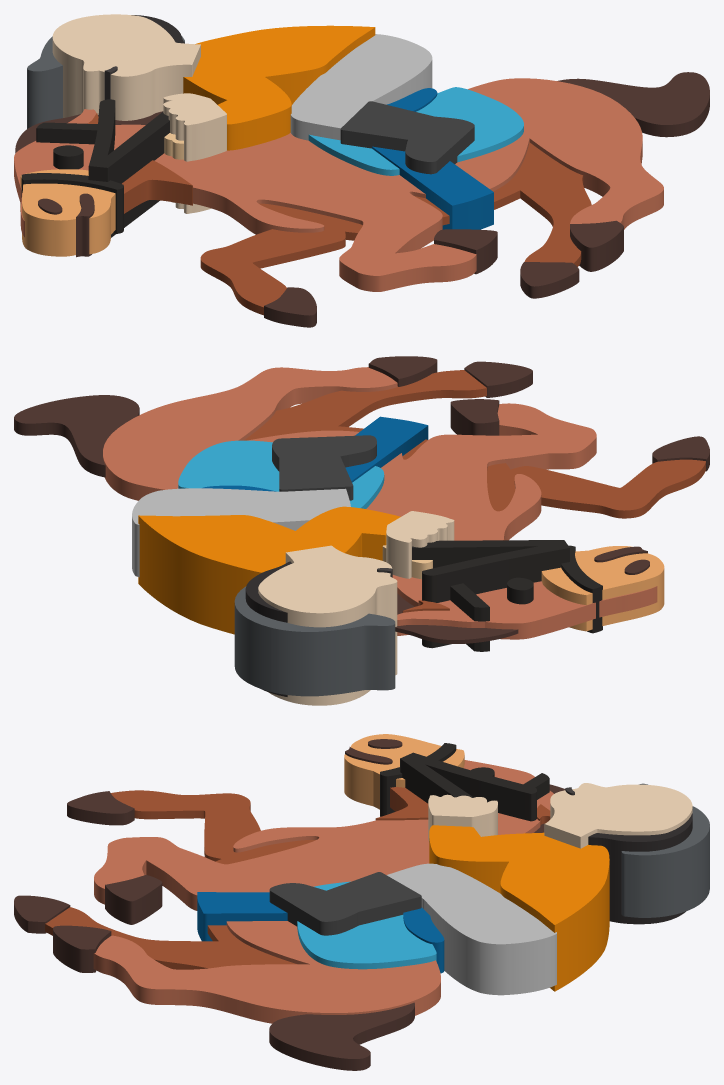
File: emoji_u1f3c7_1f3fb.glb
3 views of the same model, one above another, from view 1: azimuth 30°, elevation 25°; view 2: azimuth 150°, elevation 25°; view 3: azimuth 270°, elevation 25° (orthographic). The views are drawn at different scales.
Visible parts, largest first — view 1: emoji_u1f3c7_1f3fb; view 2: emoji_u1f3c7_1f3fb; view 3: emoji_u1f3c7_1f3fb.
Boxes of the visible parts, x1,y1,x2,y2 form: emoji_u1f3c7_1f3fb: (14,14,709,327); emoji_u1f3c7_1f3fb: (14,356,709,705); emoji_u1f3c7_1f3fb: (14,734,709,1070).
Size of the model in its own units: 0.0343 by 0.0048 by 0.0322.
